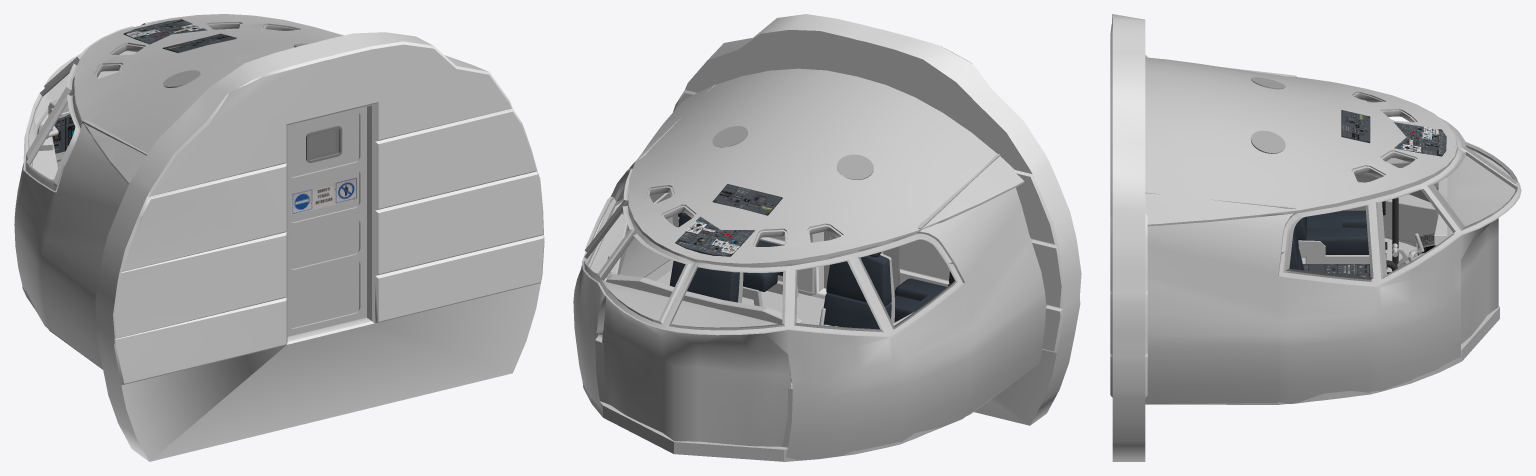
Rendered from Cabine Piloto.FBX.
The picture shows the model from 3 angles, left to right: view 1: azimuth 30°, elevation 25°; view 2: azimuth 150°, elevation 25°; view 3: azimuth 270°, elevation 25°; orthographic projection. The views are drawn at different scales.
Parts seen in each view (by area): view 1: Divisorias_Cabine, InteriorCabine, Porta_cockpit, Estrutura_VidrosCabine, Cabine Painel; view 2: InteriorCabine, Divisorias_Cabine, Estrutura_VidrosCabine, Cadeira_Cabine, Cabine Painel, Porta_cockpit; view 3: InteriorCabine, Divisorias_Cabine, Estrutura_VidrosCabine, Cadeira_Cabine, Cabine Painel, Cabine Manche.
Boxes of the visible parts, x1,y1,x2,y2 form: Divisorias_Cabine: [95, 32, 544, 461]; InteriorCabine: [14, 14, 343, 369]; Porta_cockpit: [287, 106, 366, 336]; Estrutura_VidrosCabine: [23, 19, 163, 192]; Cabine Painel: [52, 19, 236, 153]; InteriorCabine: [573, 68, 1046, 461]; Divisorias_Cabine: [673, 14, 1081, 425]; Estrutura_VidrosCabine: [582, 163, 964, 337]; Cadeira_Cabine: [669, 212, 954, 329]; Cabine Painel: [675, 184, 782, 256]; Porta_cockpit: [824, 231, 898, 294]; InteriorCabine: [1145, 57, 1515, 404]; Divisorias_Cabine: [1110, 14, 1147, 461]; Estrutura_VidrosCabine: [1278, 101, 1521, 287]; Cadeira_Cabine: [1289, 210, 1369, 270]; Cabine Painel: [1303, 110, 1446, 277]; Cabine Manche: [1382, 198, 1408, 271].
Bounding box in the file's own units: 3522 × 2823 × 3167.
